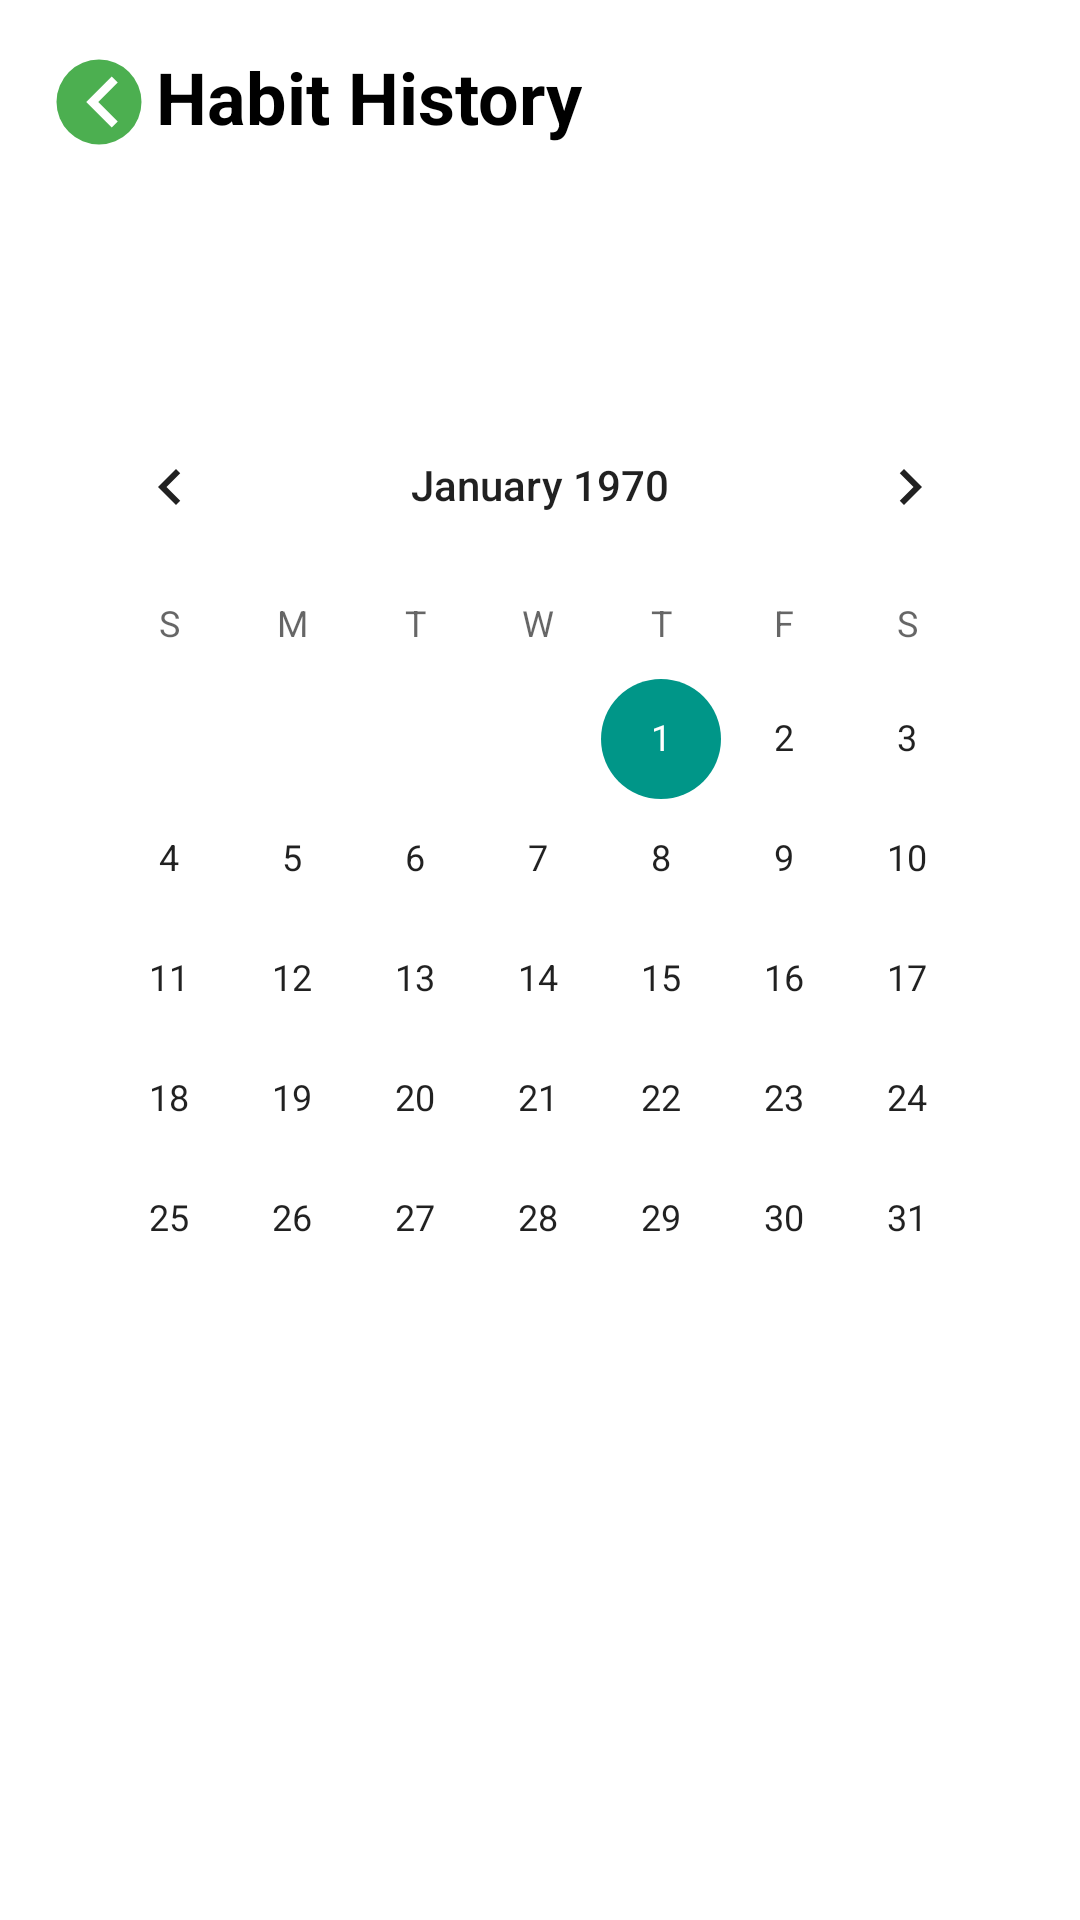

Named icons in this screenshot (1080x1920) and their centers, [x,y]:
back: [99,102]
